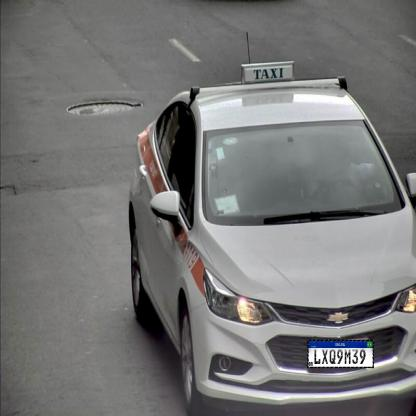PlacaM: (307, 340, 374, 368)
